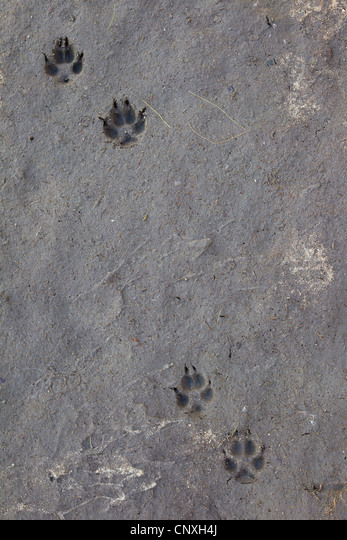fox: (221, 434, 270, 485), (101, 95, 147, 147), (172, 368, 217, 413)
